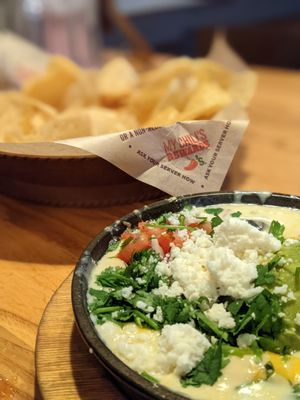sushi: (74, 193, 300, 399)
